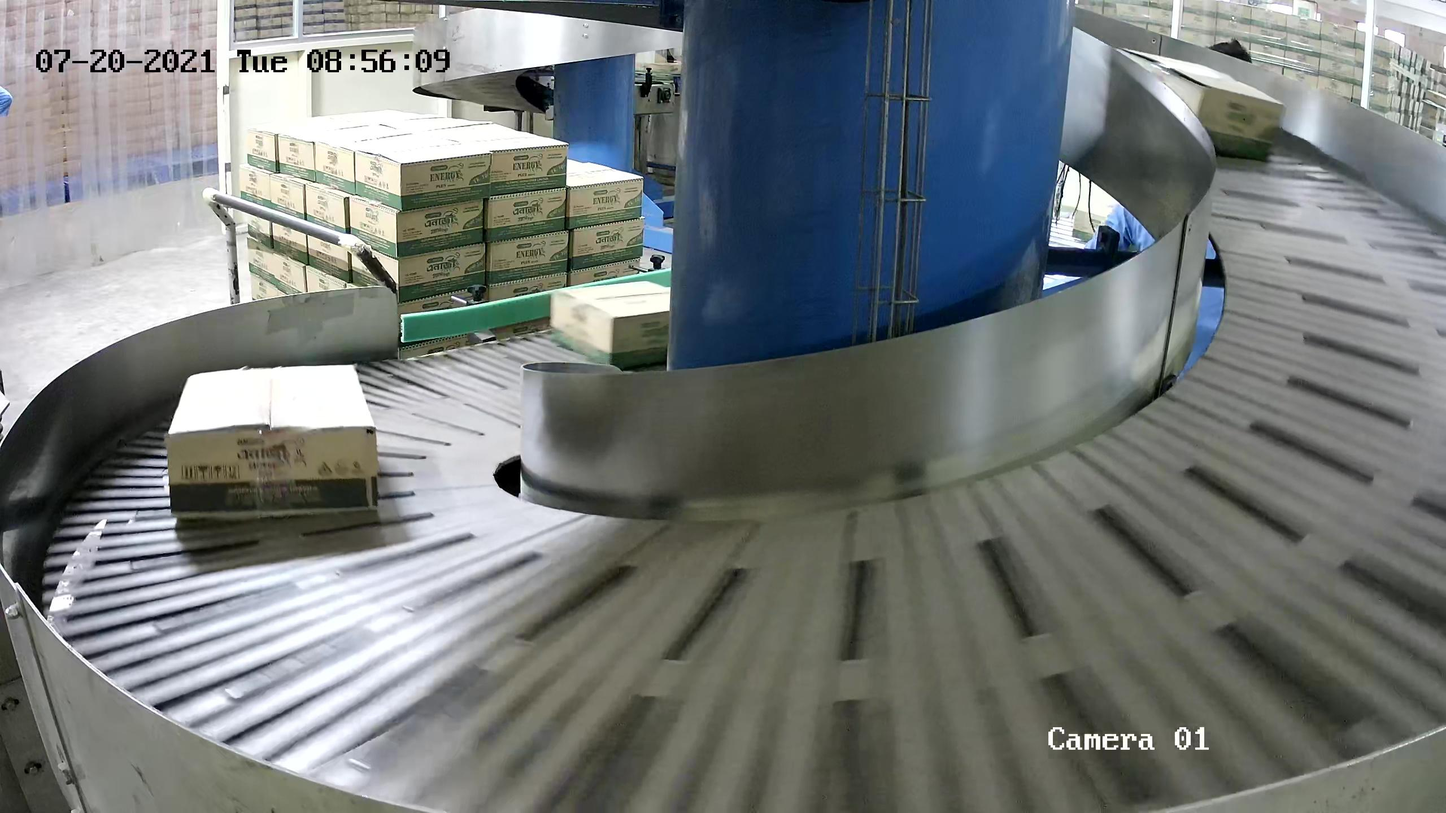Box: (163, 362, 381, 522), (1111, 45, 1287, 163), (548, 280, 671, 368)
